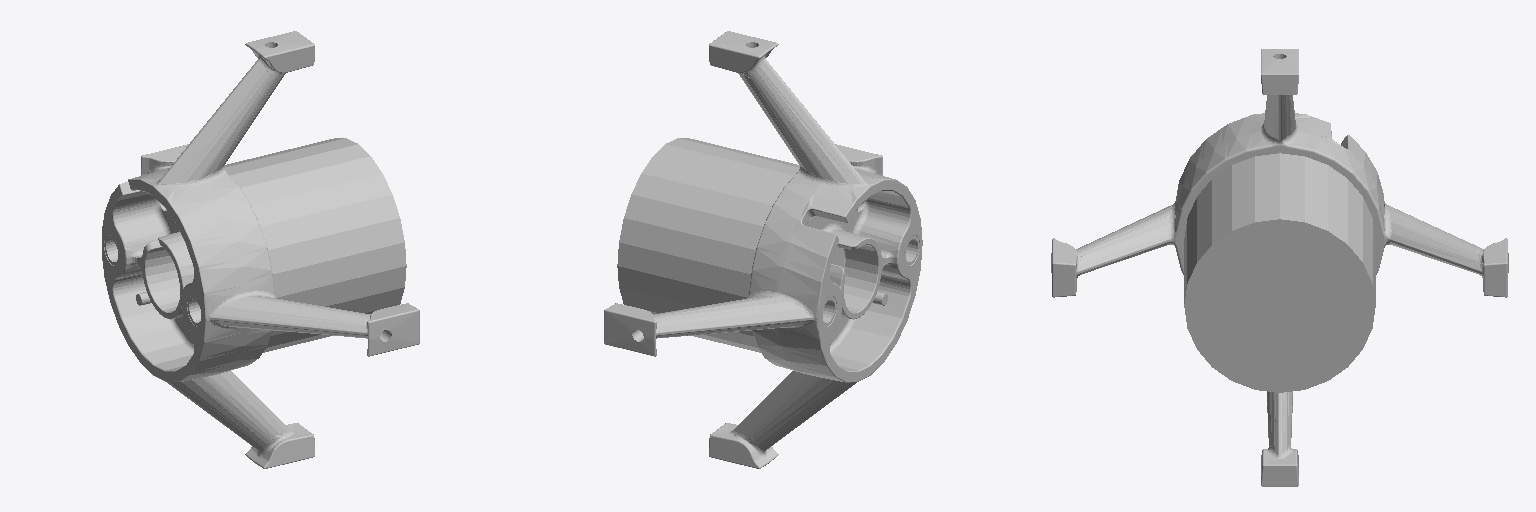
File: T200_T200STEP_T200STEPSTEP_T200_CORE_T200_CORE_STDSTEPSTEP_T200_ASM_STATOR_BASE_ORING_Pubilc_STEPSTEP_T200STEP1_T200STEP1.obj
3 renders of one model, left to right at view 1: azimuth 30°, elevation 25°; view 2: azimuth 150°, elevation 25°; view 3: azimuth 270°, elevation 25°, orthographic.
Size of the model in its own units: 0.0453 by 0.0874 by 0.0874.